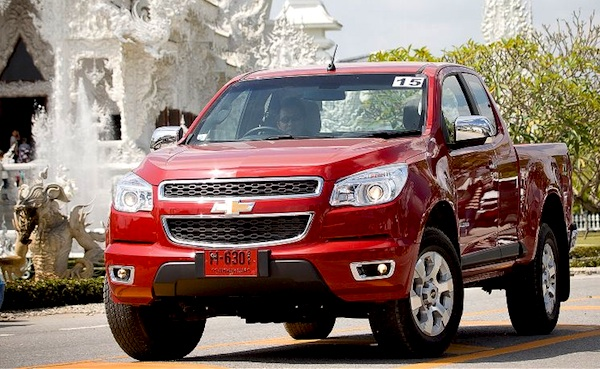pickup: (102, 63, 574, 363)
